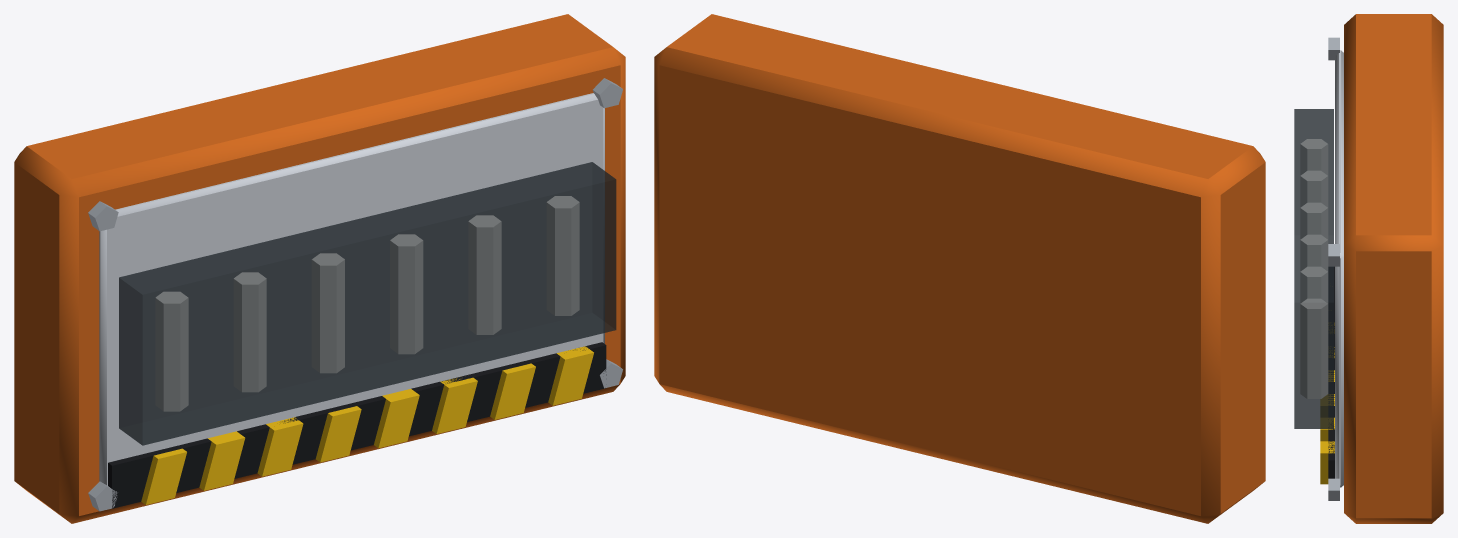
File: junction_fuse_box.glb
3 renders of one model, left to right at view 1: azimuth 30°, elevation 25°; view 2: azimuth 150°, elevation 25°; view 3: azimuth 270°, elevation 25°, orthographic. The views are drawn at different scales.
Parts seen in each view (by area): view 1: junction_fuse_box; view 2: junction_fuse_box; view 3: junction_fuse_box.
Part boxes in pixels (bbox=[...]): junction_fuse_box: bbox=[14, 14, 625, 523]; junction_fuse_box: bbox=[654, 14, 1265, 523]; junction_fuse_box: bbox=[1294, 14, 1443, 523].
Bounding box in the file's own units: 0.55 × 0.32 × 0.15.
